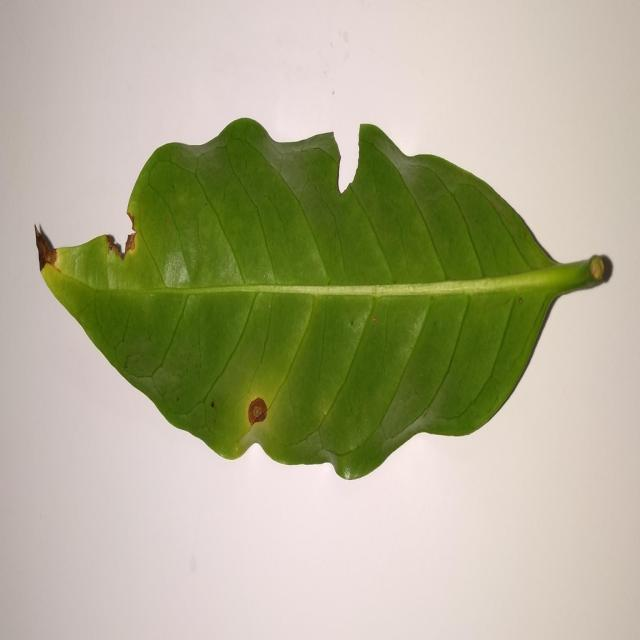Enfermedad-Mancha-de-hierro: (34, 118, 615, 484)
